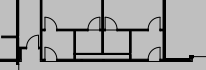door: (42, 15, 58, 33), (42, 46, 58, 63), (25, 33, 40, 50), (86, 15, 101, 32), (147, 16, 162, 33), (146, 46, 161, 62), (104, 16, 118, 32)
wall: (74, 57, 147, 64), (161, 1, 168, 63), (15, 1, 20, 64), (75, 51, 130, 56), (71, 27, 78, 60), (165, 56, 191, 63), (59, 27, 88, 32), (39, 1, 43, 30), (1, 34, 16, 40), (1, 57, 16, 63)
